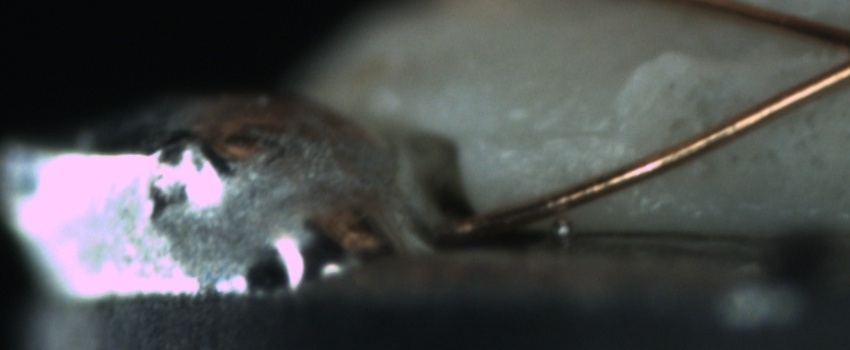DL: (490, 98, 632, 164)
